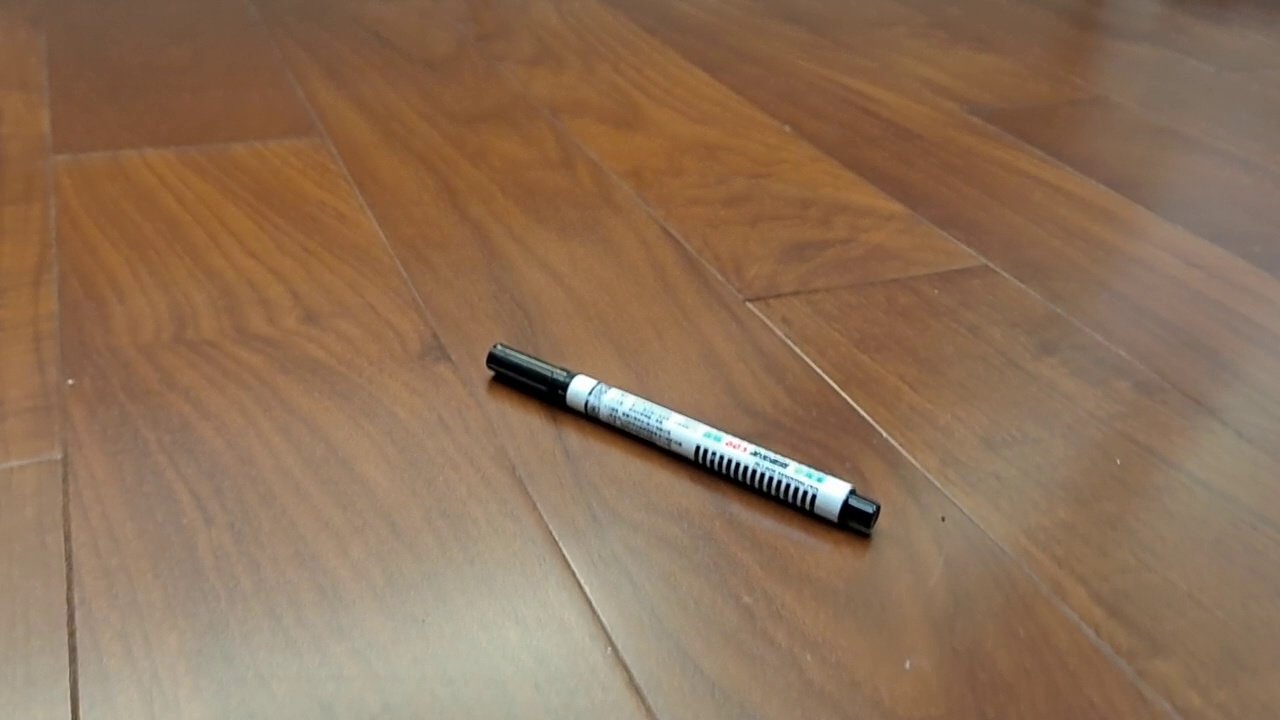pen: (485, 341, 882, 531)
